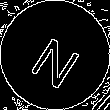N_NE: (24, 23, 86, 87)
